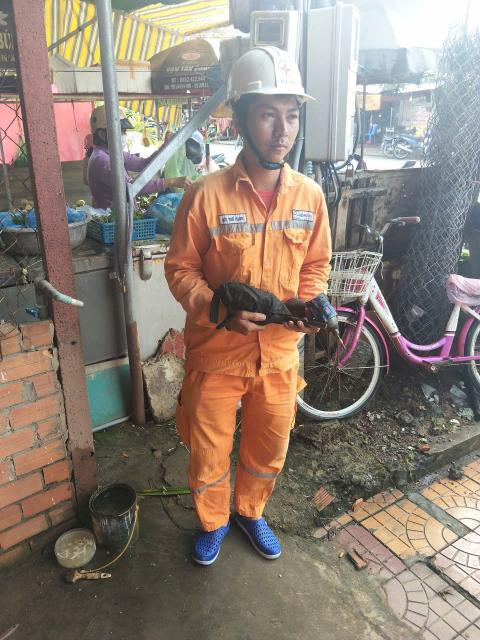helmet: (212, 40, 319, 112)
shoes: (240, 494, 311, 574), (190, 509, 237, 570)
